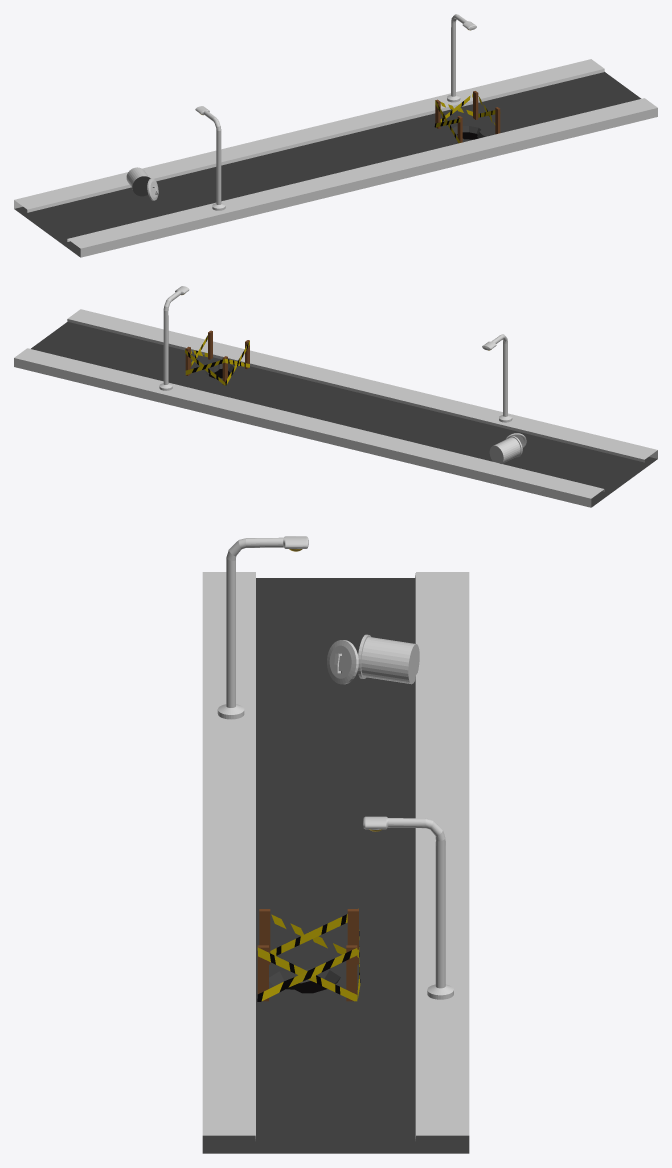
File: ThirdTerrainFBX.fbx
The picture shows the model from 3 angles, top to bottom: view 1: azimuth 30°, elevation 25°; view 2: azimuth 150°, elevation 25°; view 3: azimuth 270°, elevation 25°; orthographic projection. The views are drawn at different scales.
Visible parts, largest first — view 1: Cube; view 2: Cube; view 3: Cube.
Part boxes in pixels (box(x1,y1,x2,y2)): Cube: box(14, 14, 657, 257); Cube: box(14, 286, 657, 507); Cube: box(202, 536, 469, 1153).
Size of the model in its own units: 100 by 16.04 by 20.
